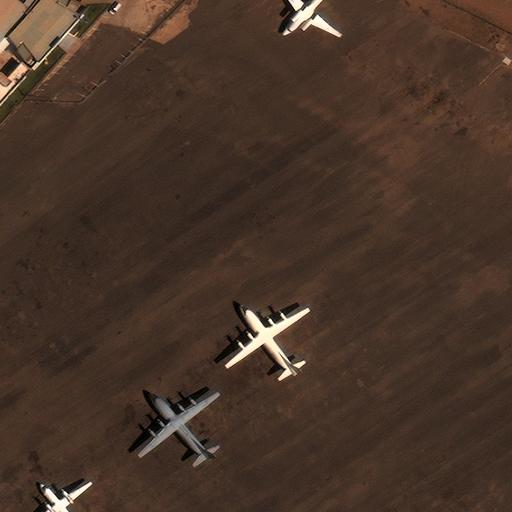Military Transport: (223, 304, 306, 376), (135, 390, 218, 460), (278, 0, 342, 37), (32, 481, 90, 512)
